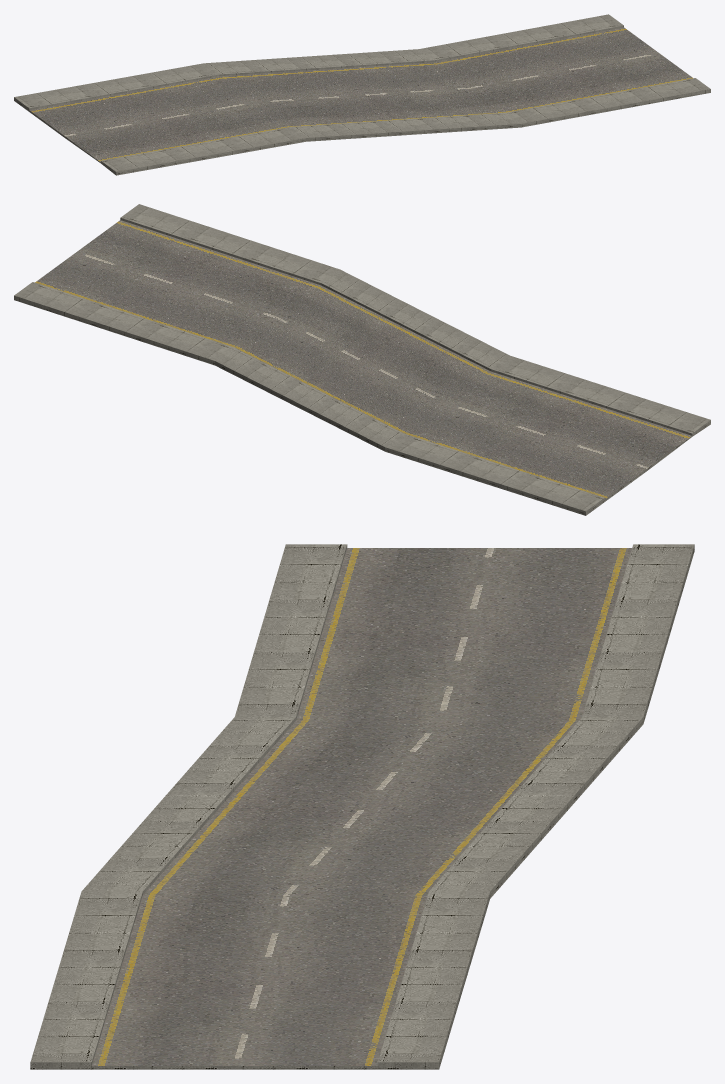
File: road_1_sheer.glb
The picture shows the model from 3 angles, top to bottom: view 1: azimuth 30°, elevation 25°; view 2: azimuth 150°, elevation 25°; view 3: azimuth 270°, elevation 25°; orthographic projection. The views are drawn at different scales.
Parts seen in each view (by area): view 1: road_1_sheer; view 2: road_1_sheer; view 3: road_1_sheer.
Boxes of the visible parts, left/top/right/bottom form: road_1_sheer: left=14, top=14, right=710, bottom=175; road_1_sheer: left=14, top=204, right=710, bottom=515; road_1_sheer: left=30, top=544, right=694, bottom=1069.
Size of the model in its own units: 48 by 0.4 by 26.
Materials: 2 (2 with a texture image).
